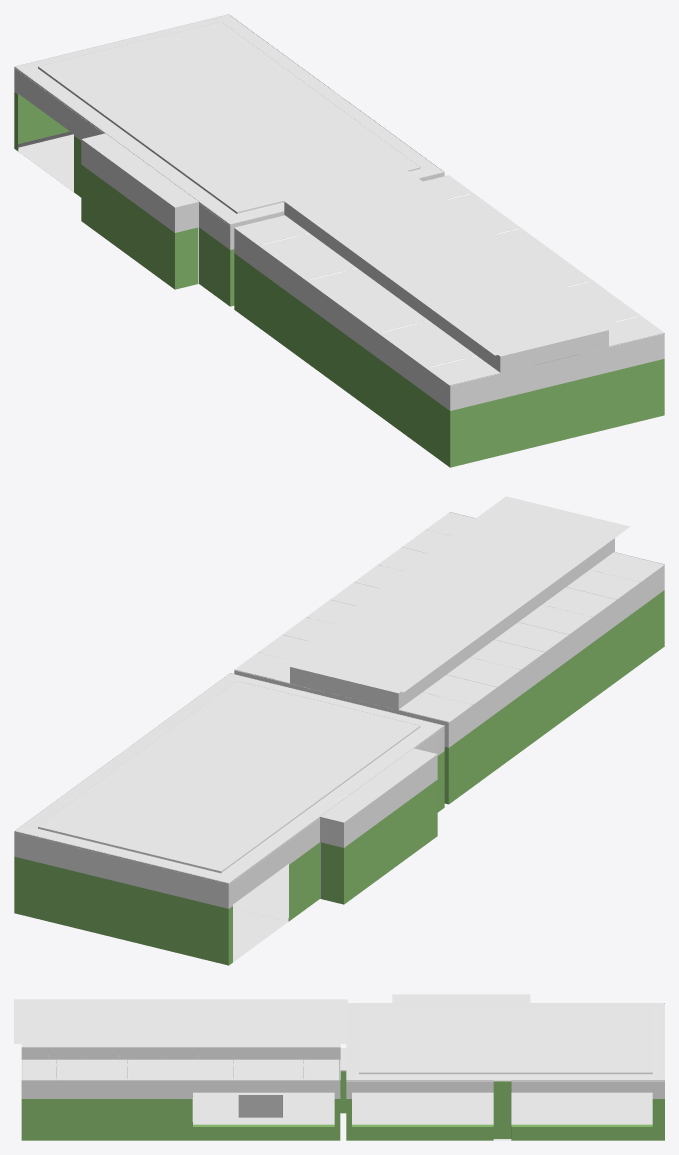
3 views of the same model, one above another, from view 1: azimuth 30°, elevation 25°; view 2: azimuth 150°, elevation 25°; view 3: azimuth 270°, elevation 25° (orthographic). The views are drawn at different scales.
Parts seen in each view (by area): view 1: SM_H_Building_FutureTech_HBlack_01_InterWall_03; view 2: SM_H_Building_FutureTech_HBlack_01_InterWall_03; view 3: SM_H_Building_FutureTech_HBlack_01_InterWall_03.
Part boxes in pixels (x1,y1,x2,y2): SM_H_Building_FutureTech_HBlack_01_InterWall_03: (14, 14, 664, 467); SM_H_Building_FutureTech_HBlack_01_InterWall_03: (14, 496, 664, 965); SM_H_Building_FutureTech_HBlack_01_InterWall_03: (14, 994, 664, 1140).
Bounding box in the file's own units: 1271 × 409 × 169.
